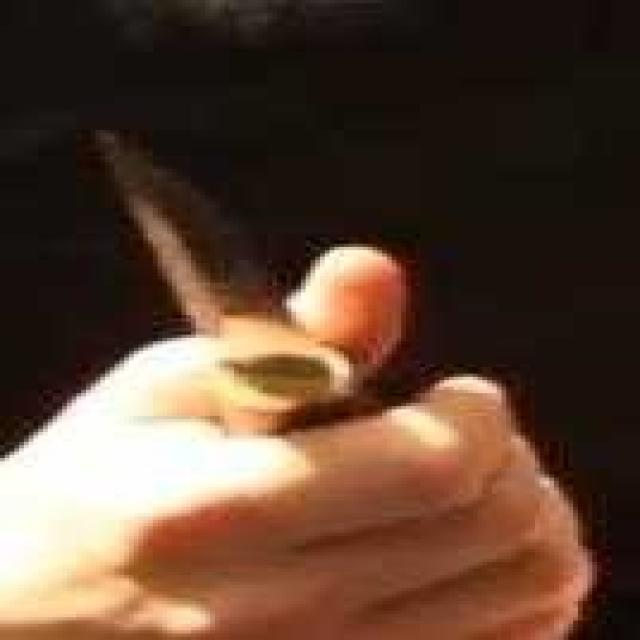Knife: (82, 91, 495, 527)
